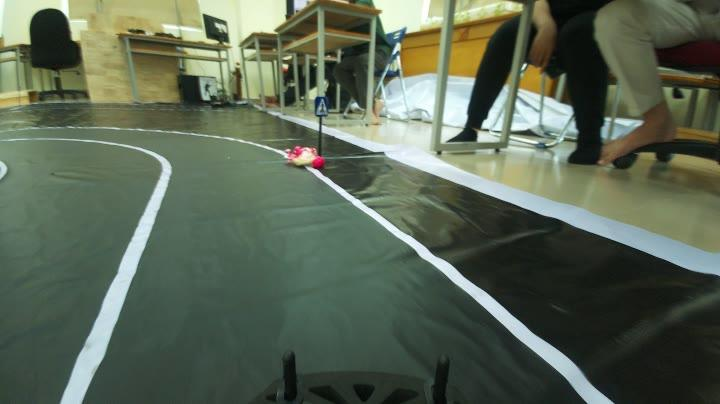crosswalk: (305, 95, 337, 119)
